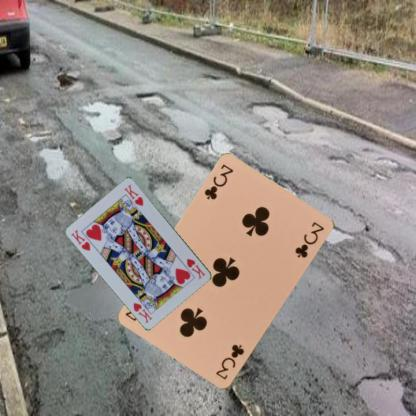3c: (213, 341, 246, 382), (202, 162, 235, 202)
Kh: (184, 256, 207, 281), (69, 227, 92, 252)
